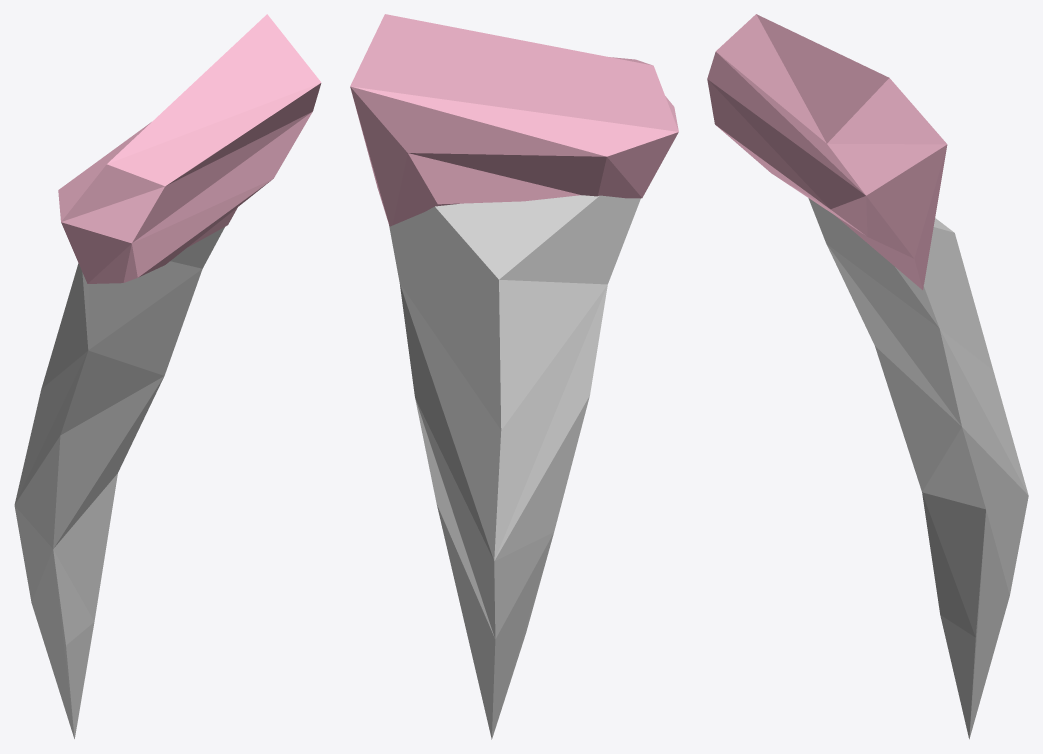
The model's file is Tooth.obj.
3 renders of one model, left to right at view 1: azimuth 30°, elevation 25°; view 2: azimuth 150°, elevation 25°; view 3: azimuth 270°, elevation 25°, orthographic. The views are drawn at different scales.
Visible parts, largest first — view 1: group1688784022, group1035787740; view 2: group1688784022, group1035787740; view 3: group1688784022, group1035787740.
Boxes of the visible parts, left/top/right/bottom form: group1688784022: left=14, top=227, right=224, bottom=738; group1035787740: left=58, top=14, right=321, bottom=283; group1688784022: left=389, top=195, right=640, bottom=739; group1035787740: left=350, top=14, right=678, bottom=226; group1688784022: left=808, top=198, right=1028, bottom=739; group1035787740: left=707, top=14, right=947, bottom=290.
Bounding box in the file's own units: 0.2769 × 0.6406 × 0.2524.
